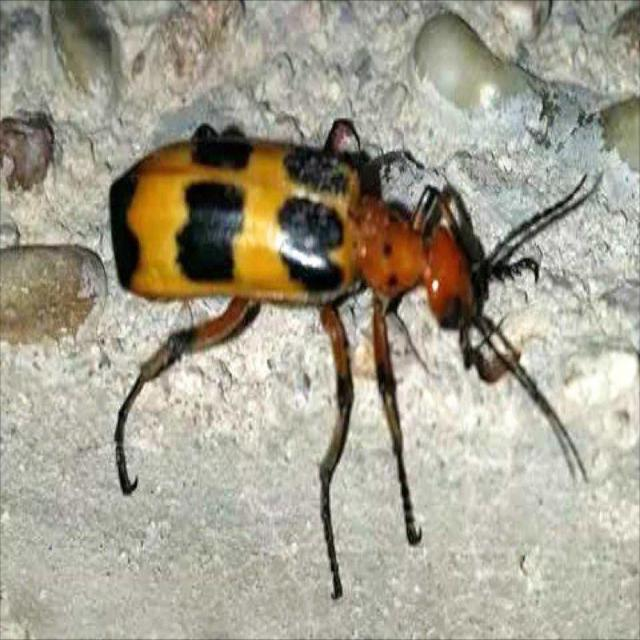BlisterBeetle-Adult-: (106, 115, 584, 496)
